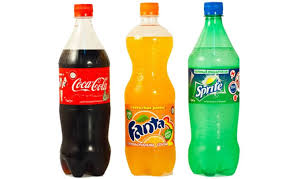fanta: (128, 3, 175, 173)
